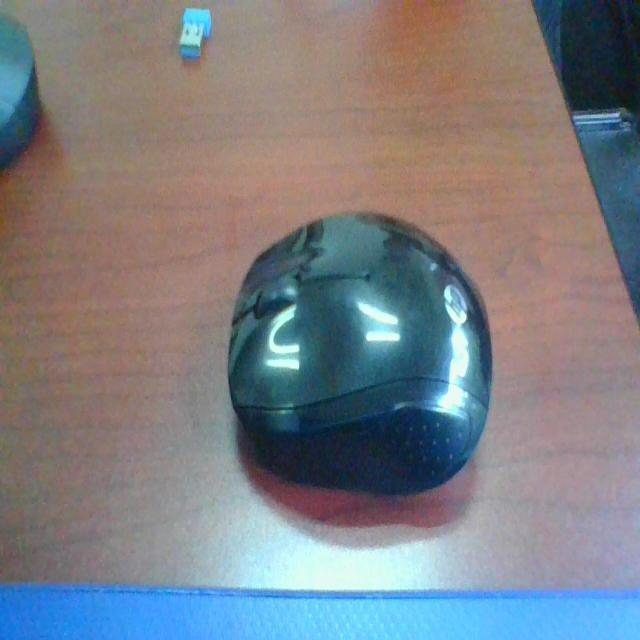mouse: (231, 207, 504, 514)
